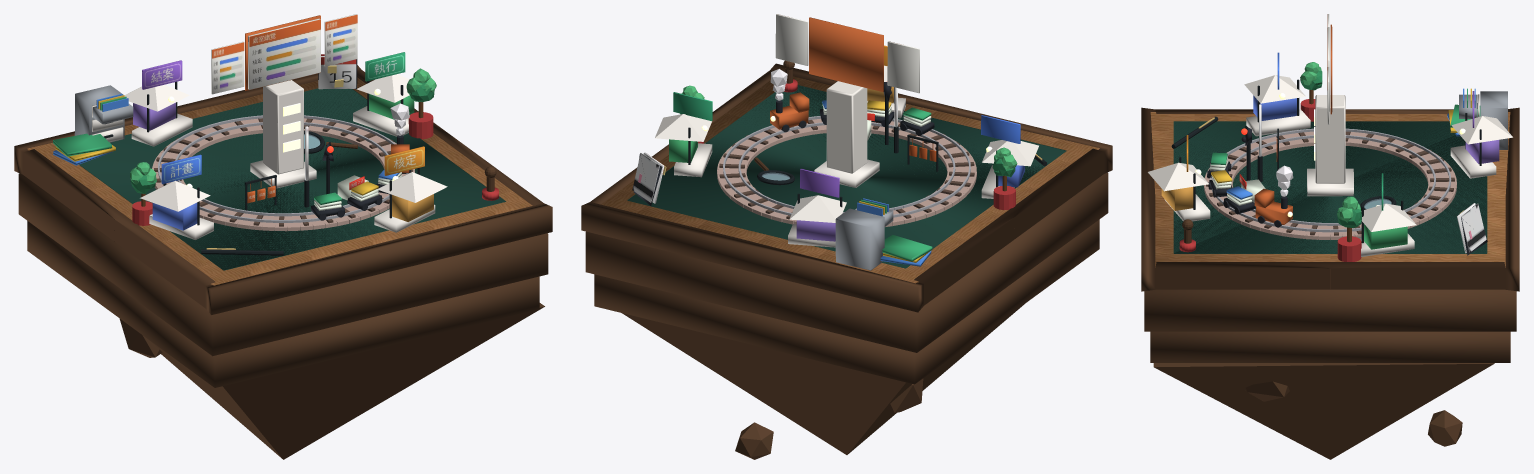
The model's file is admin.glb.
3 views of the same model, side by side, from view 1: azimuth 30°, elevation 25°; view 2: azimuth 150°, elevation 25°; view 3: azimuth 270°, elevation 25° (orthographic). The views are drawn at different scales.
Parts seen in each view (by area): view 1: desk_desk_dark, desk_felt, desk_white.001, desk_desk, desk_ballast, overview_overview, desk_rail, desk_pen, fxhide_ovl_overview, fxhide_ovr_overview, desk_sleeper, desk_stamp_red (+16 smaller); view 2: desk_desk_dark, desk_felt, desk_white.001, desk_desk, desk_ballast, overview_engine, desk_cabinet, desk_rail, desk_sleeper, fxhide_ovr_overview, fxhide_ovl_overview, train_engine (+10 smaller); view 3: desk_desk_dark, desk_felt, desk_white.001, desk_desk, desk_ballast, desk_rail, desk_sleeper, desk_pen, desk_stamp_red, desk_cabinet, train_engine, desk_stage_2 (+9 smaller).
Boxes of the visible parts, x1,y1,x2,y2 form: desk_desk_dark: [14, 65, 552, 459]; desk_felt: [79, 88, 505, 270]; desk_white.001: [92, 74, 447, 239]; desk_desk: [27, 77, 532, 285]; desk_ballast: [152, 118, 414, 231]; overview_overview: [248, 18, 320, 89]; desk_rail: [158, 115, 407, 222]; desk_pen: [103, 81, 419, 255]; fxhide_ovl_overview: [211, 41, 244, 94]; fxhide_ovr_overview: [324, 14, 357, 66]; desk_sleeper: [154, 118, 412, 226]; desk_stamp_red: [132, 112, 498, 225]; desk_desk_dark: [581, 60, 1112, 459]; desk_felt: [627, 85, 1066, 268]; desk_white.001: [655, 65, 1038, 247]; desk_desk: [600, 76, 1099, 283]; desk_ballast: [717, 119, 976, 226]; overview_engine: [809, 17, 883, 91]; desk_cabinet: [835, 208, 884, 270]; desk_rail: [723, 116, 970, 217]; desk_sleeper: [719, 120, 974, 219]; fxhide_ovr_overview: [775, 14, 808, 65]; fxhide_ovl_overview: [887, 41, 919, 93]; train_engine: [770, 92, 809, 129]; desk_desk_dark: [1141, 107, 1519, 459]; desk_felt: [1173, 121, 1487, 253]; desk_white.001: [1148, 75, 1512, 256]; desk_desk: [1150, 112, 1510, 267]; desk_ballast: [1204, 131, 1456, 239]; desk_rail: [1209, 128, 1451, 232]; desk_sleeper: [1206, 131, 1454, 235]; desk_pen: [1171, 79, 1481, 243]; desk_stamp_red: [1179, 99, 1361, 261]; desk_cabinet: [1480, 91, 1507, 149]; train_engine: [1254, 188, 1292, 224]; desk_stage_2: [1364, 224, 1407, 249].
Bounding box in the file's own units: 3.98 × 4.85 × 3.98.
14 materials, 14 textured.
